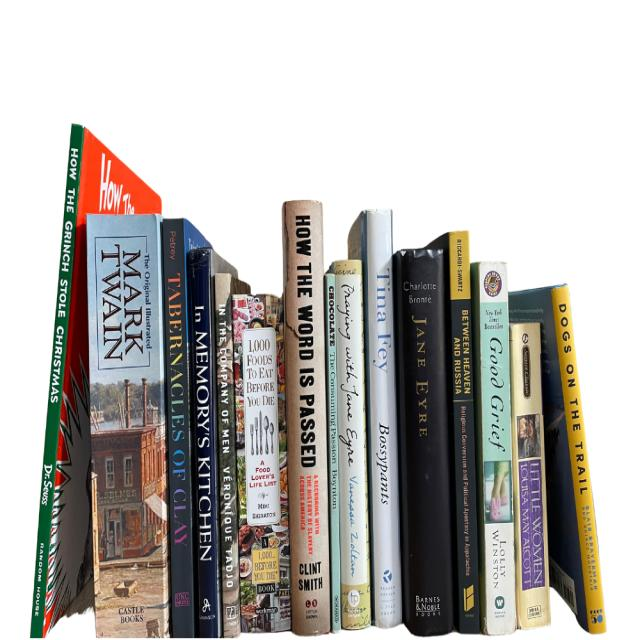Books: (31, 125, 161, 638), (86, 214, 170, 638), (394, 248, 454, 636), (349, 209, 402, 629), (428, 230, 480, 634), (282, 200, 330, 636), (161, 218, 210, 638), (233, 295, 290, 632), (189, 248, 236, 638), (332, 261, 371, 630), (215, 273, 250, 638), (324, 271, 341, 632)
